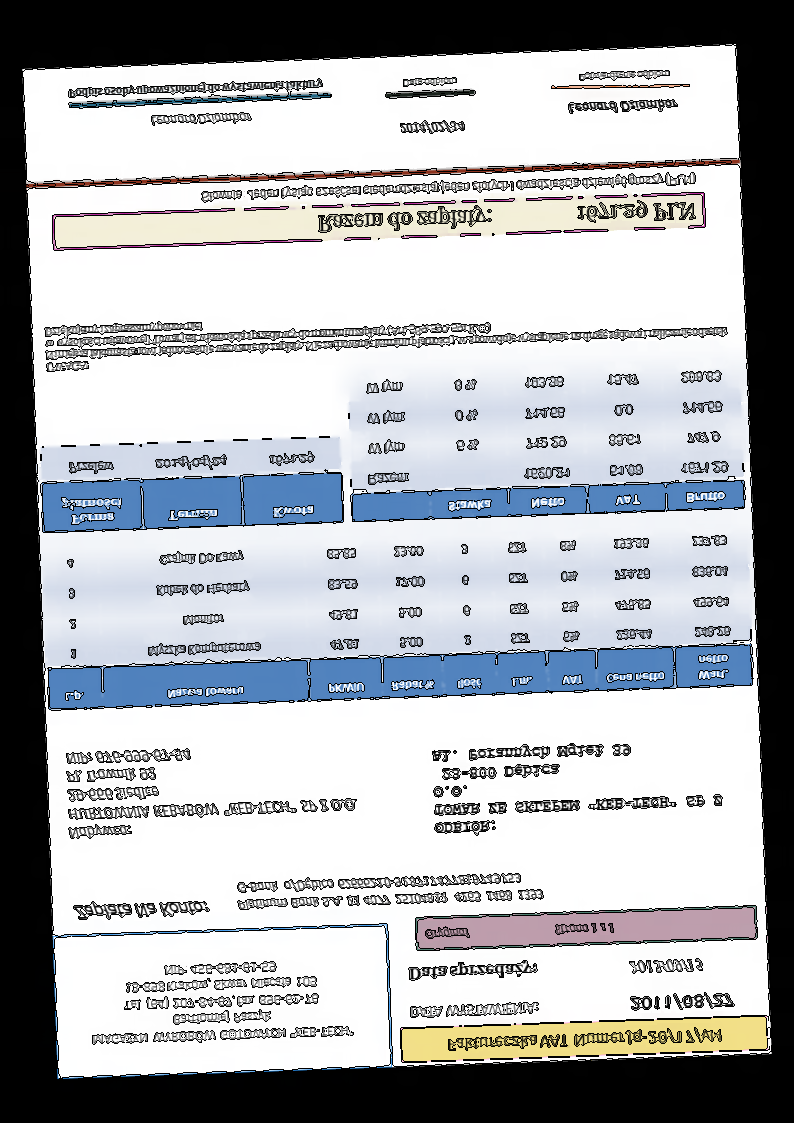Table: (42, 520, 754, 712), (345, 356, 746, 523), (39, 434, 344, 535)
TextBox: (42, 299, 730, 374), (429, 736, 728, 840), (62, 740, 359, 843), (87, 955, 357, 1049), (199, 169, 696, 207), (315, 196, 699, 237), (234, 867, 547, 913), (444, 1025, 723, 1055), (66, 76, 326, 102), (423, 918, 614, 941), (71, 896, 210, 923), (406, 959, 540, 983), (407, 998, 540, 1022), (628, 988, 735, 1012), (565, 97, 678, 117), (148, 109, 255, 129), (628, 956, 704, 976), (577, 68, 671, 83), (398, 118, 466, 137), (399, 74, 458, 91)
